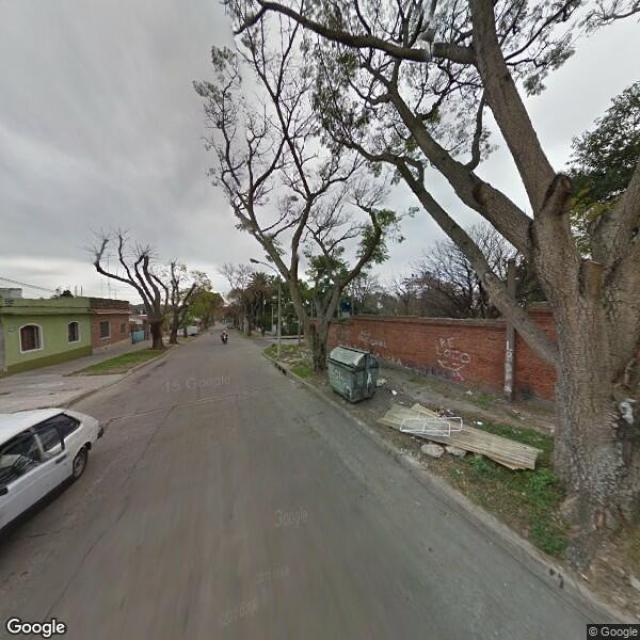garbage container: (321, 339, 387, 416)
